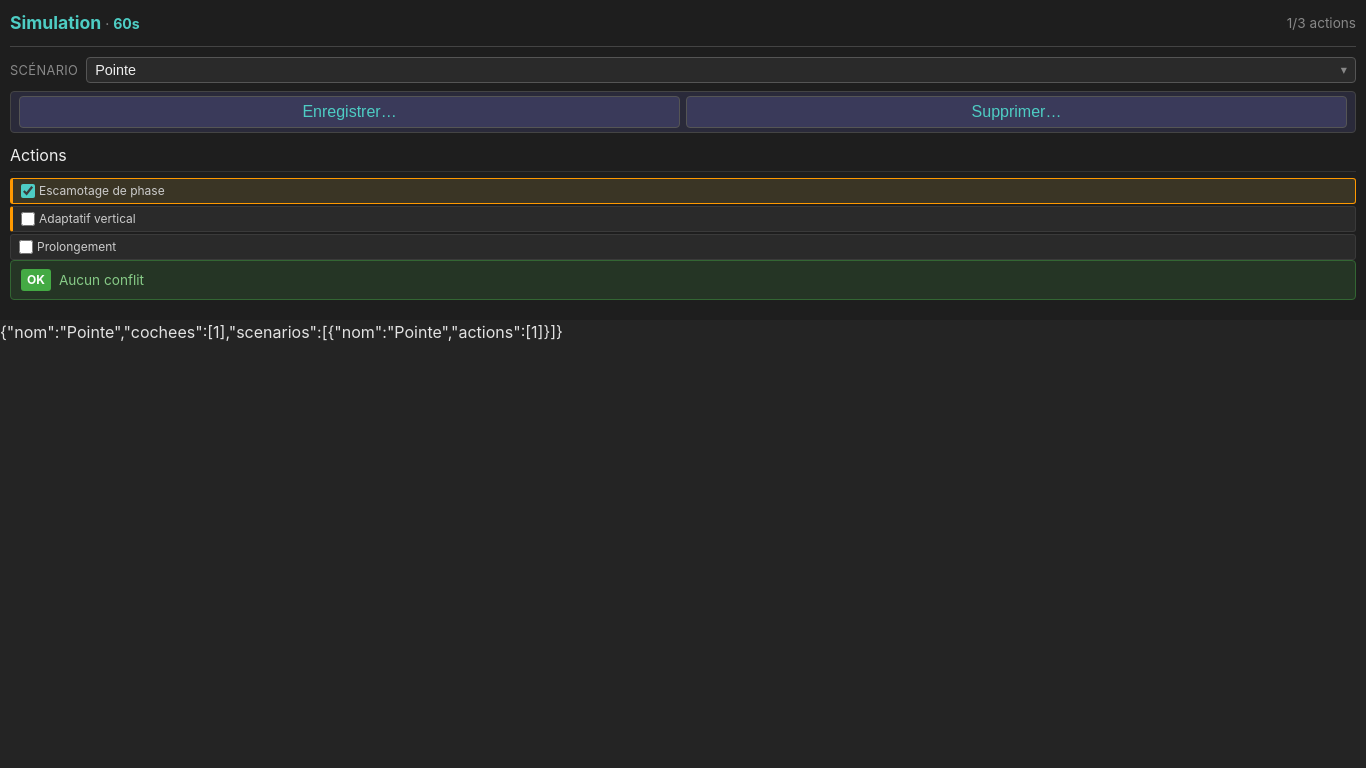
Test: Scénarios de simulation — enregistrer, renommer, copier, supprimer › Enregistrer met à jour les cases du scénario
This screenshot has width=1366, height=768.
Step 1. Click the checkbox labelled "Adaptatif vertical" → (28, 219), box [21,212,35,226]
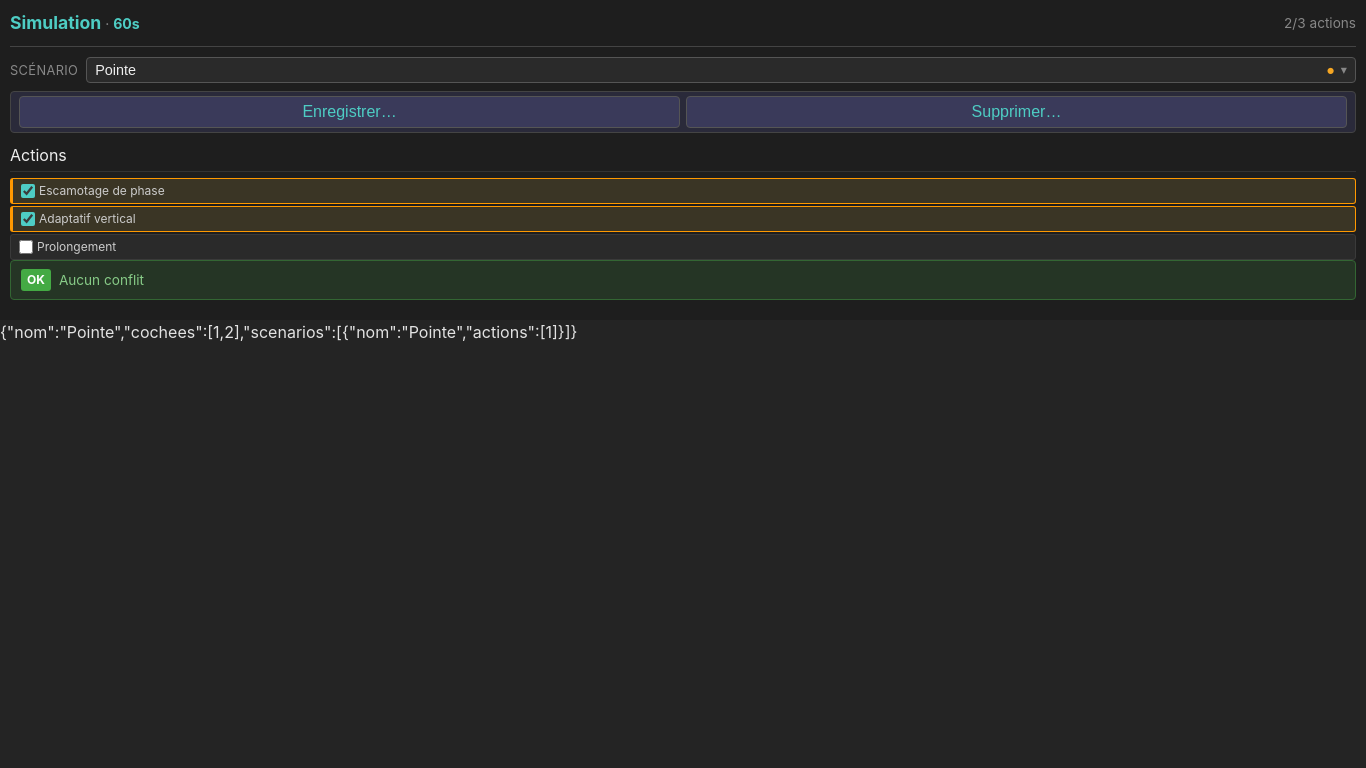
Step 2. Click the button "Enregistrer…" → (350, 112), box [19,96,680,128]
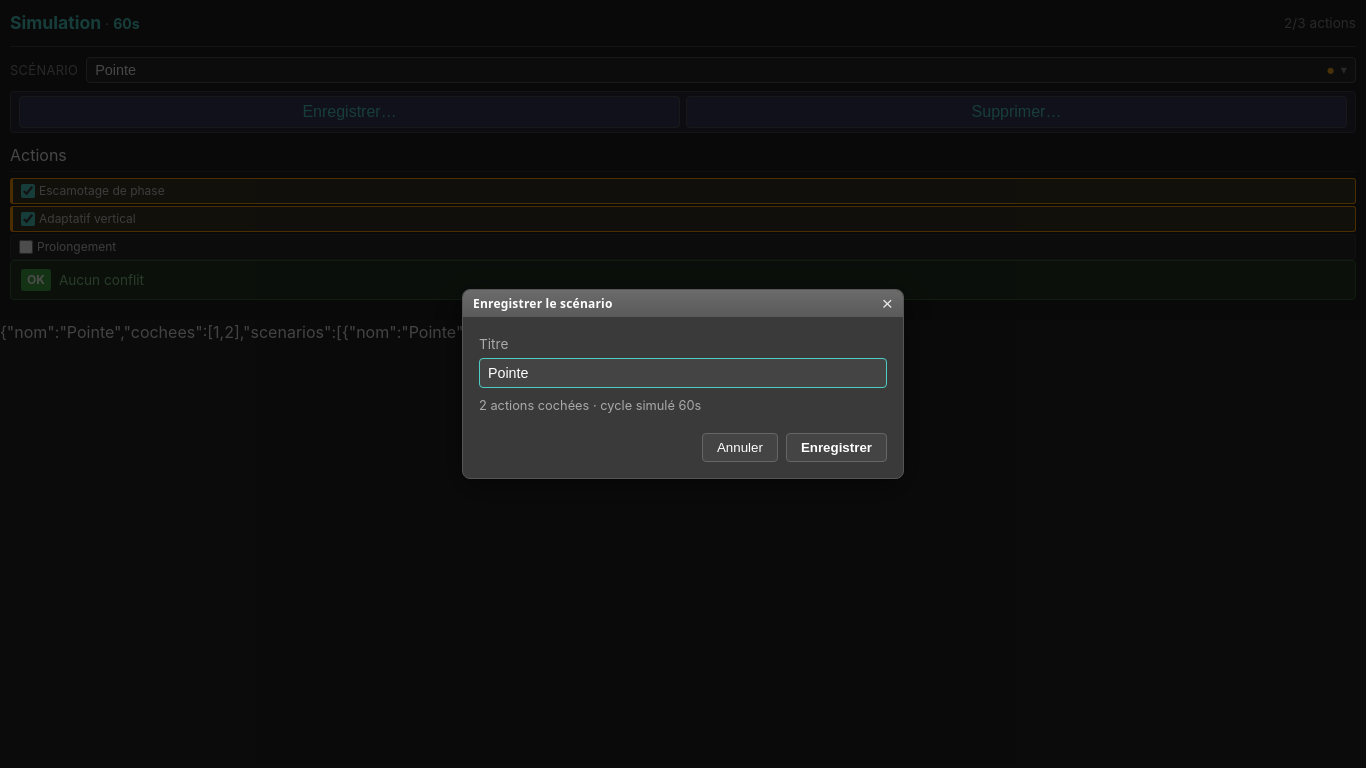
Step 3. Click the button "Enregistrer" → (836, 448), box [786,433,887,462]
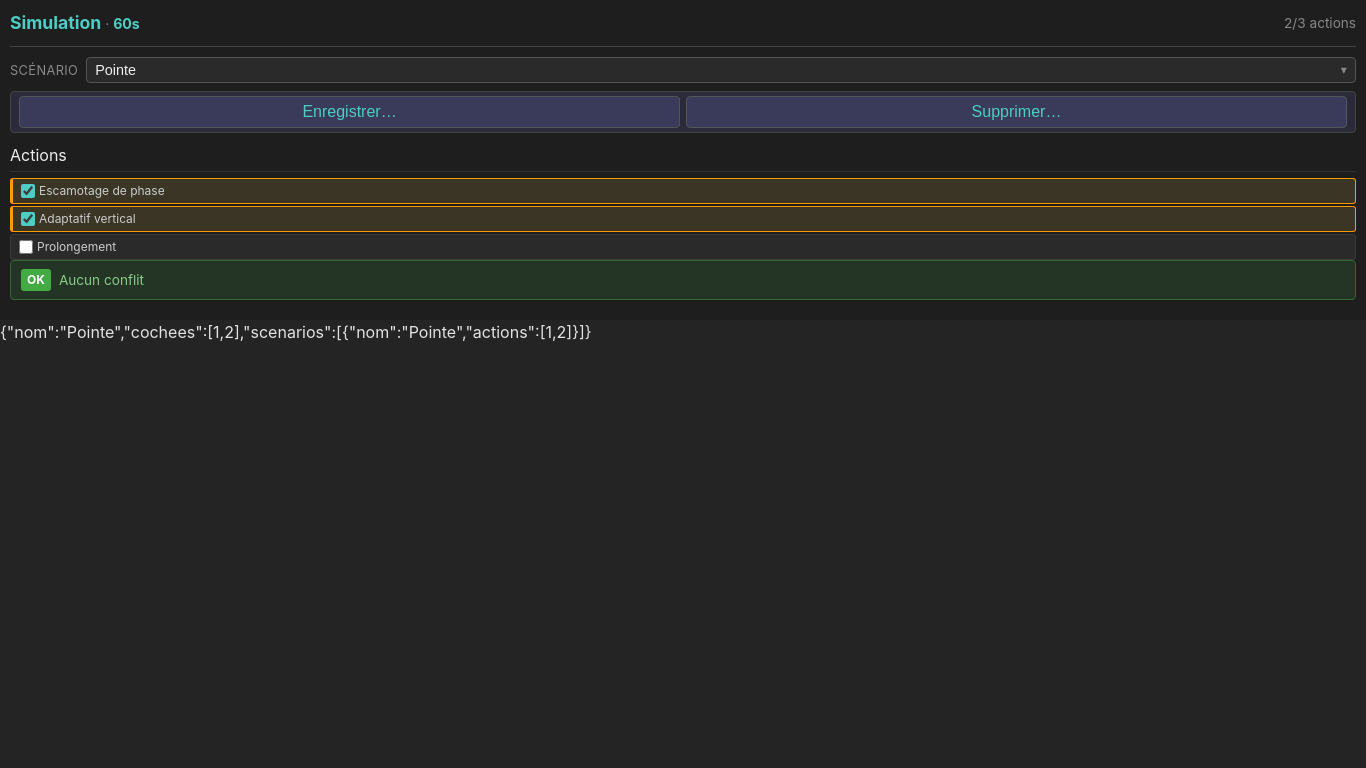
expect the text labelled "modifié" is gone: met
